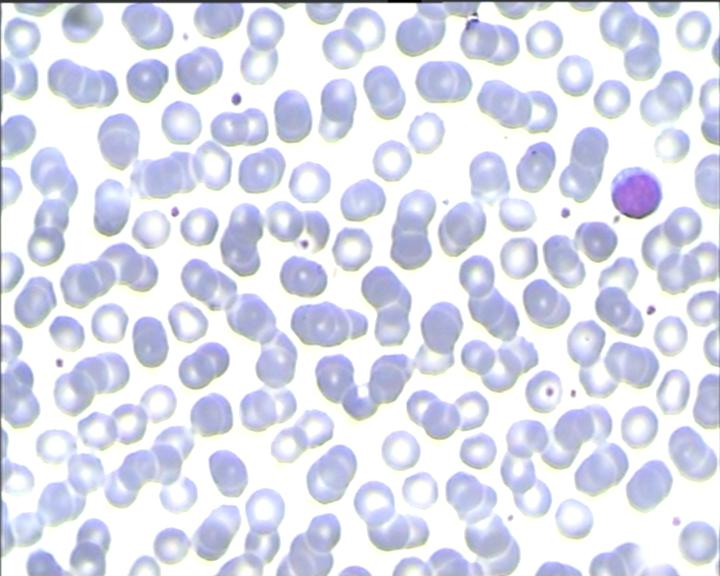lymp: (606, 162, 668, 224)
